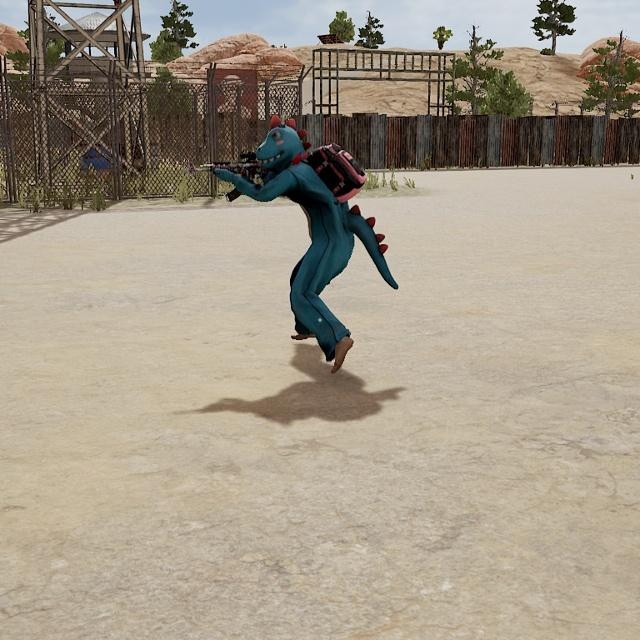head: (250, 122, 307, 175)
people: (226, 114, 375, 377)
